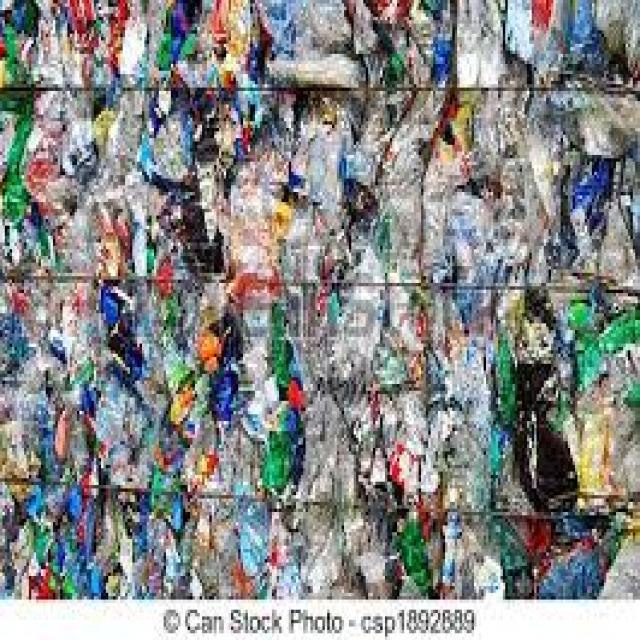plastic: (8, 15, 627, 581)
